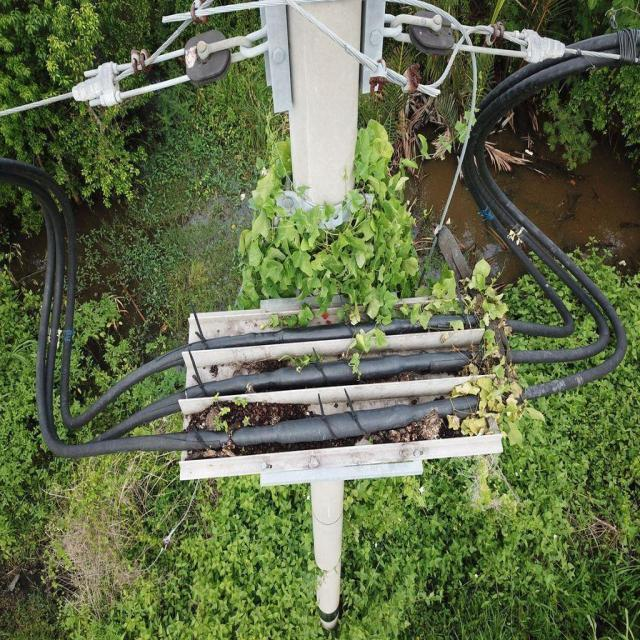critical vegetation: (226, 117, 542, 460)
